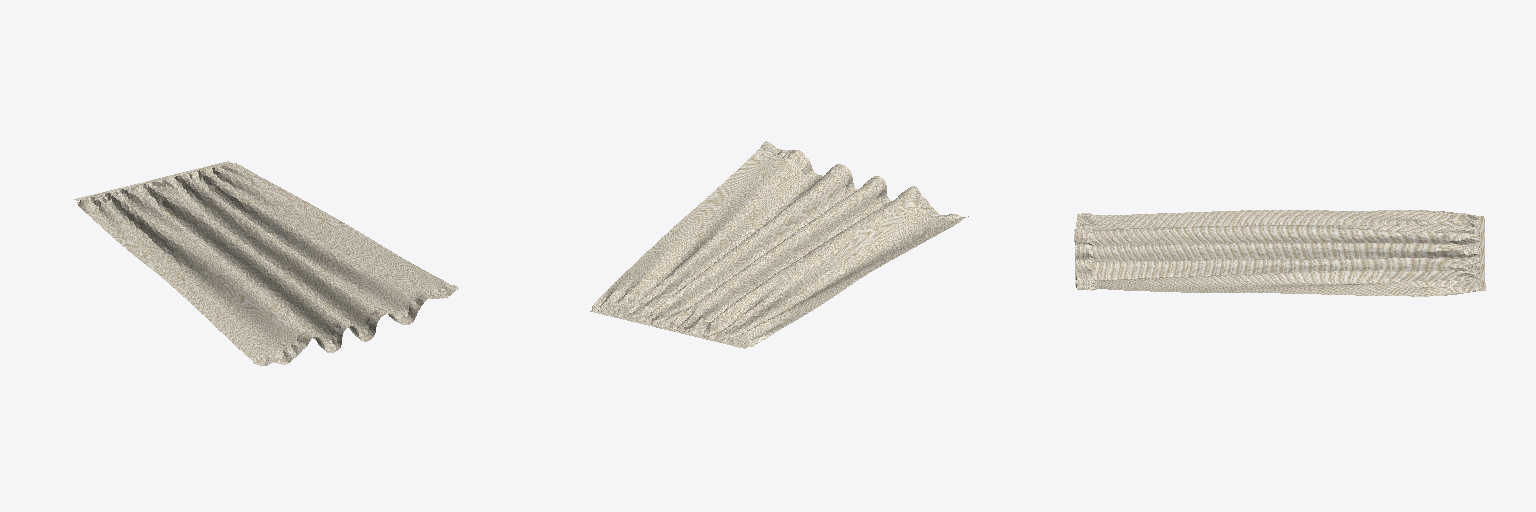
3 views of the same model, side by side, from view 1: azimuth 30°, elevation 25°; view 2: azimuth 150°, elevation 25°; view 3: azimuth 270°, elevation 25° (orthographic).
Parts seen in each view (by area): view 1: 1; view 2: 1; view 3: 1.
Boxes of the visible parts, <box> form: 1: <box>74,161,458,365</box>; 1: <box>590,141,968,348</box>; 1: <box>1074,210,1485,296</box>.
Size of the model in its own units: 0.6086 by 0.0933 by 1.05.
1 materials, 1 textured.